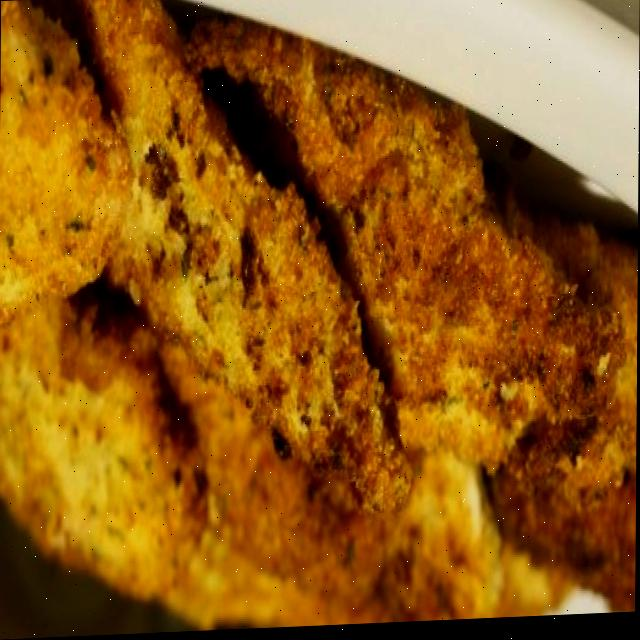鸡肉料理 含炸鸡: (0, 13, 640, 640)
